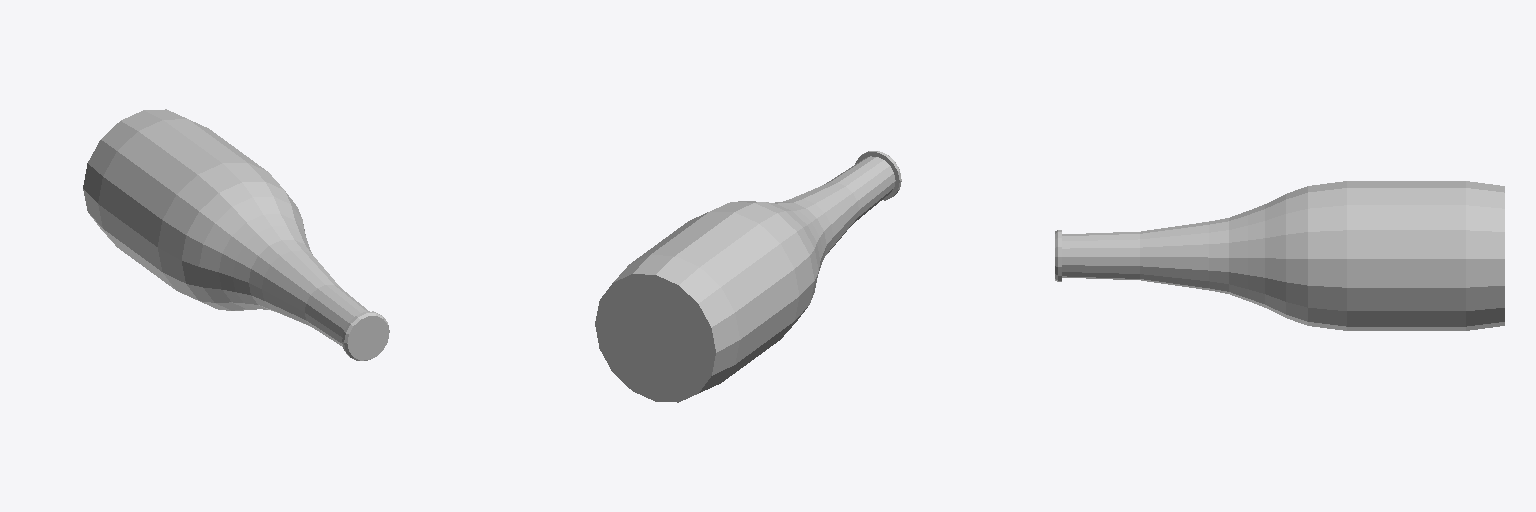
The model's file is red_bottle.obj.
The picture shows the model from 3 angles: view 1: azimuth 30°, elevation 25°; view 2: azimuth 150°, elevation 25°; view 3: azimuth 270°, elevation 25°; orthographic projection.
Visible parts, largest first — view 1: Bottle_Cylinder.006; view 2: Bottle_Cylinder.006; view 3: Bottle_Cylinder.006.
Boxes of the visible parts, <box> form: Bottle_Cylinder.006: <box>83,109,389,360</box>; Bottle_Cylinder.006: <box>595,151,901,402</box>; Bottle_Cylinder.006: <box>1055,181,1504,330</box>.
Size of the model in its own units: 0.1974 by 0.1974 by 0.591.